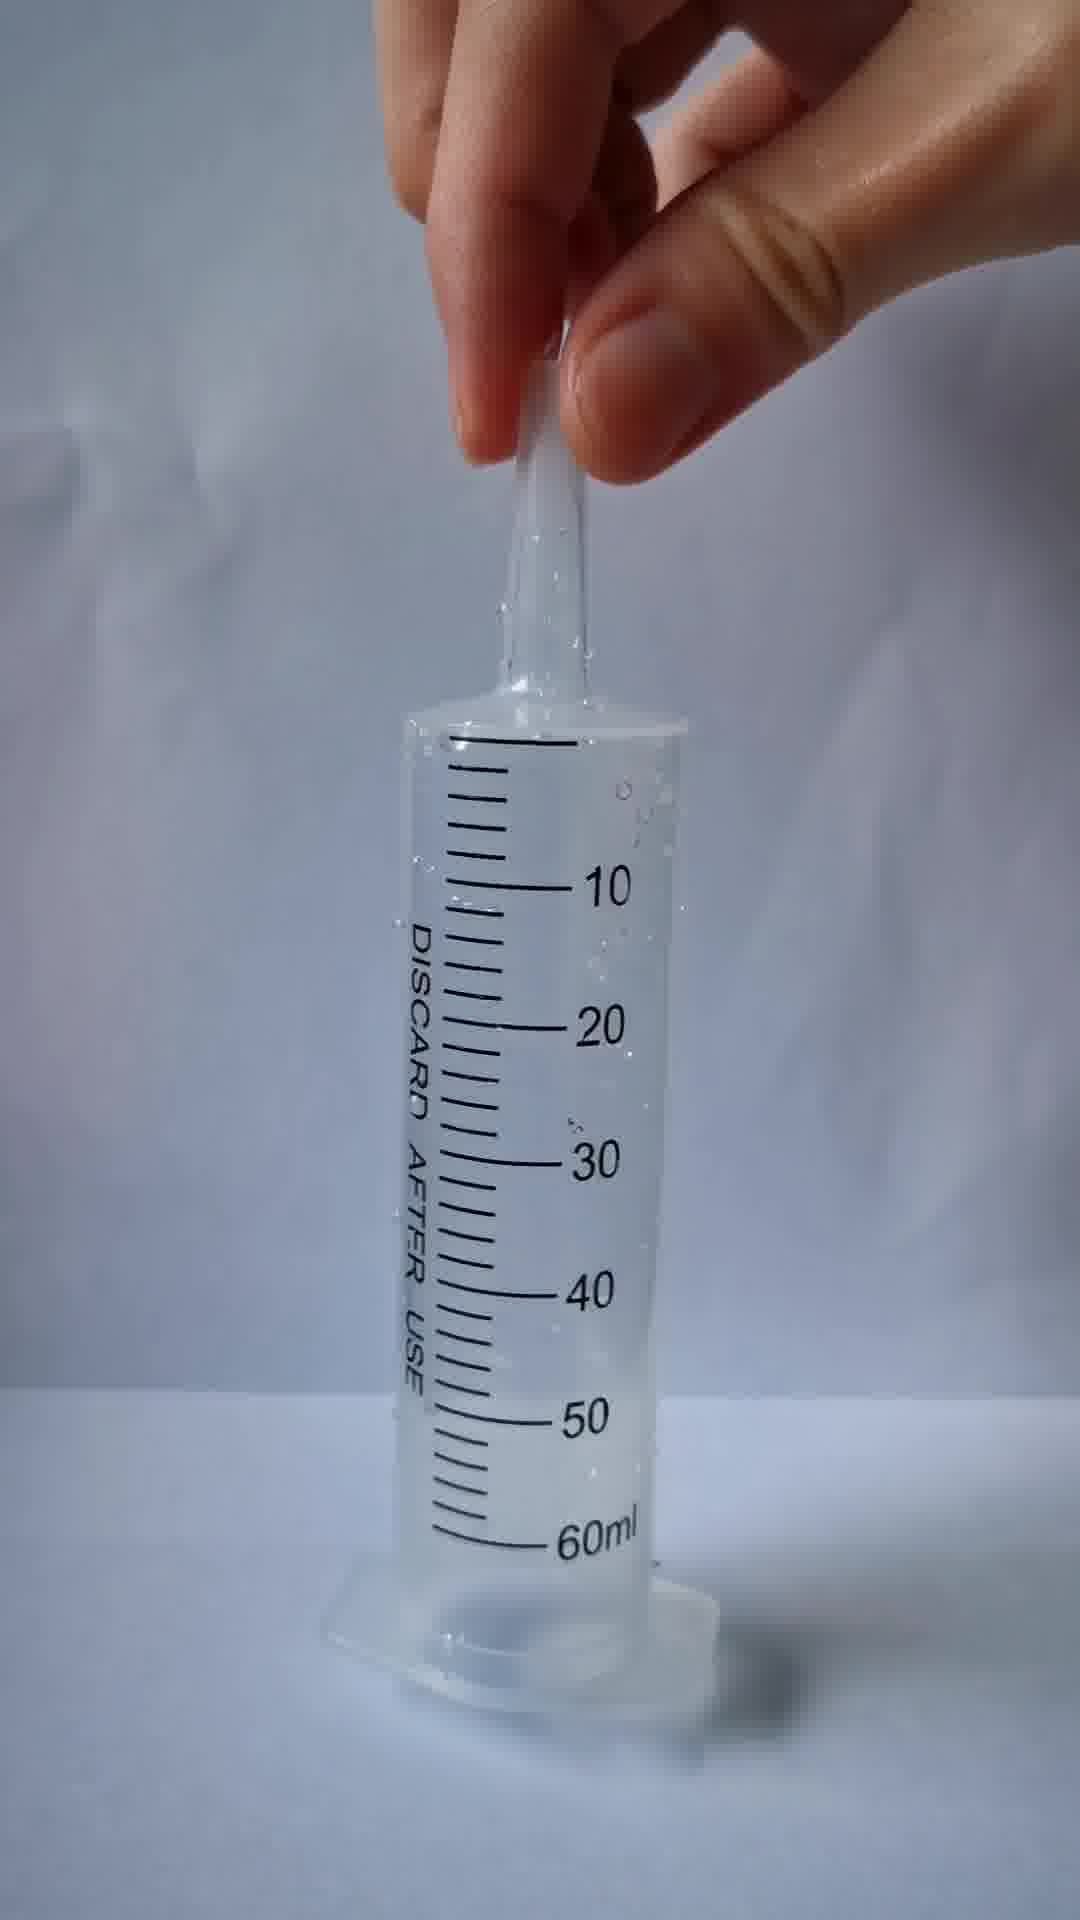syringe: (309, 356, 725, 1727)
